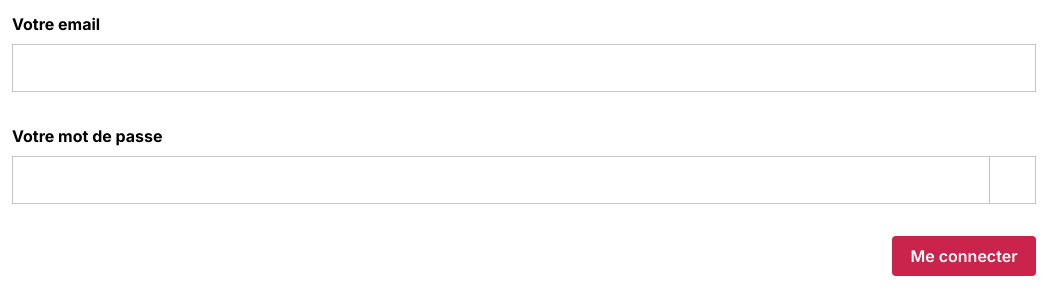
Test: LoginForm › should display an error when invalid credentials are provided
Note: Renseignement de données invalides dans les champs
In the field labelled "Votre email": (524, 68) [12,44,1036,92], type "invalid email"
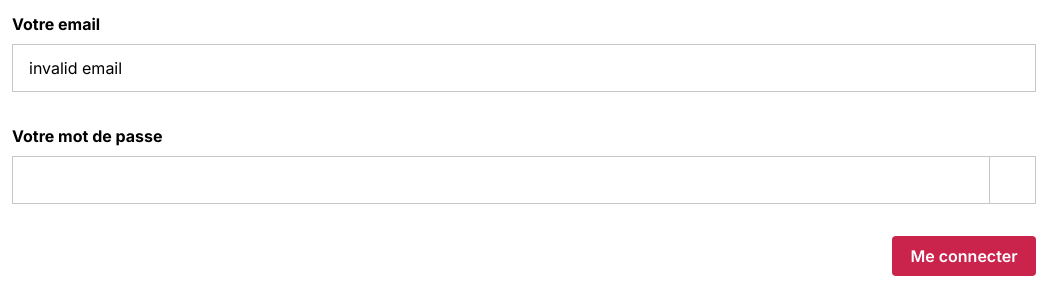
In the password field labelled "Votre mot de passe": (501, 180) [12,156,990,204], type "invalid password"
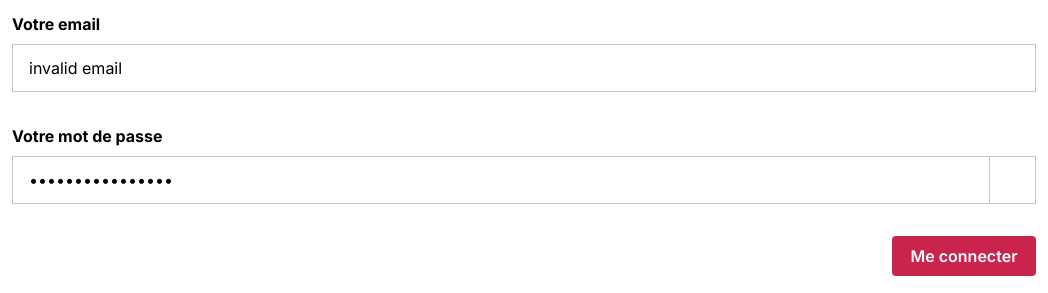
Submit the form from the button "Me connecter", box [892,236,1036,276]
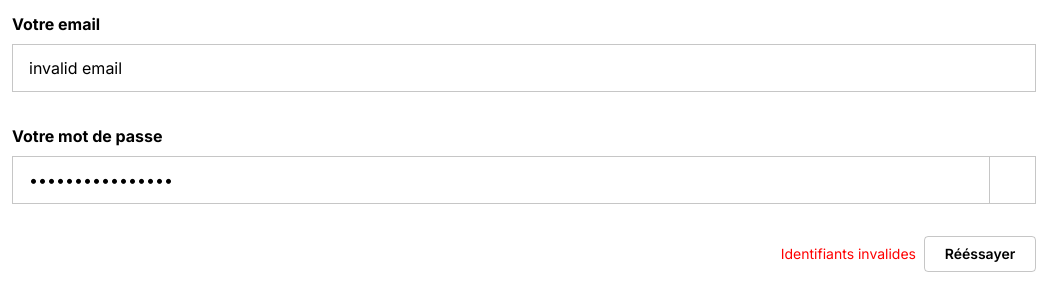
Check: the text "Identifiants invalides" is shown, box [781,244,916,264]
